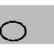no answer: (0, 17, 29, 45)
